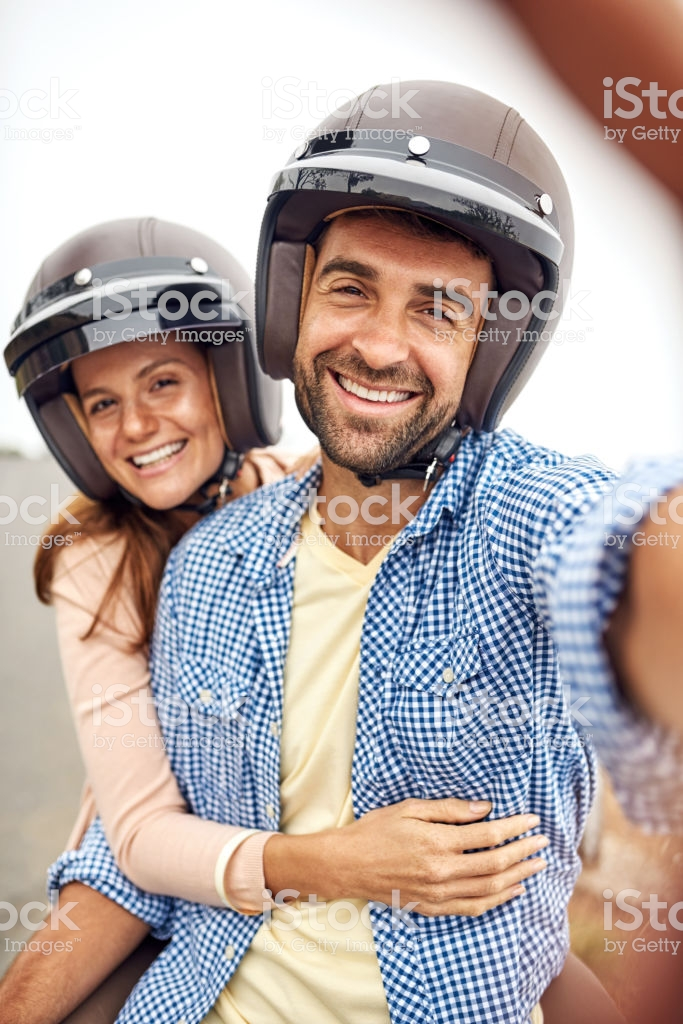helmet: (248, 120, 545, 376), (22, 232, 242, 404)
